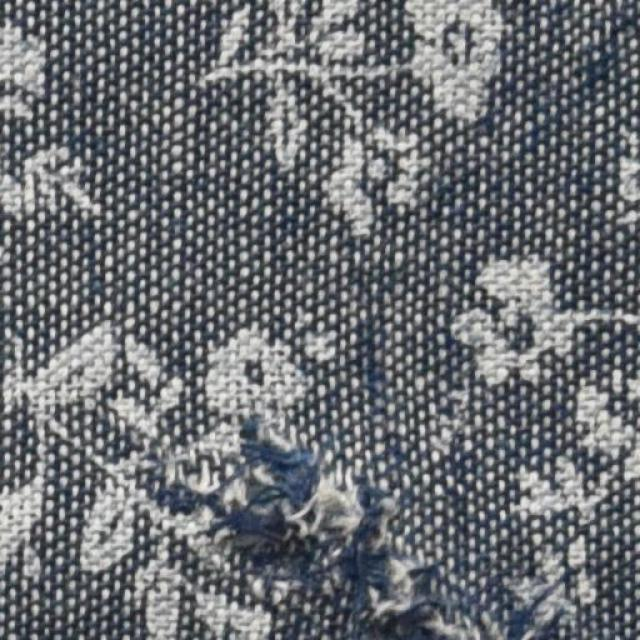Snag: (156, 408, 521, 634)
